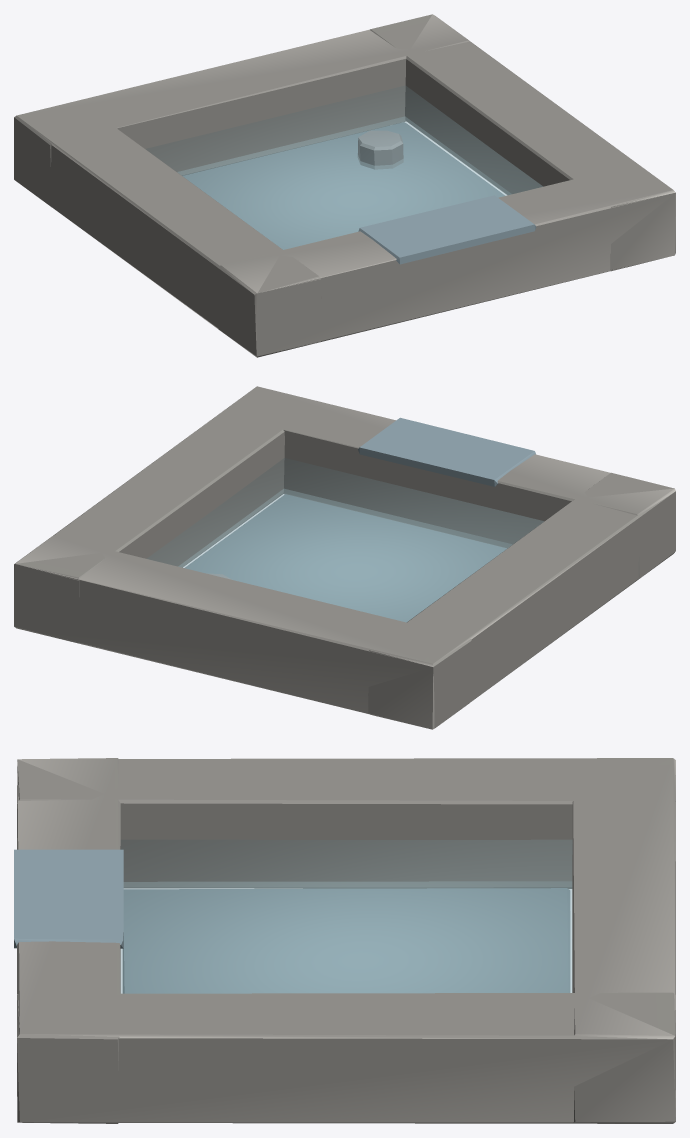
The model's file is plaza_channel_end_low.glb.
3 renders of one model, top to bottom at view 1: azimuth 30°, elevation 25°; view 2: azimuth 150°, elevation 25°; view 3: azimuth 270°, elevation 25°, orthographic. The views are drawn at different scales.
Bounding box in the file's own units: 2 × 0.3413 × 2.
